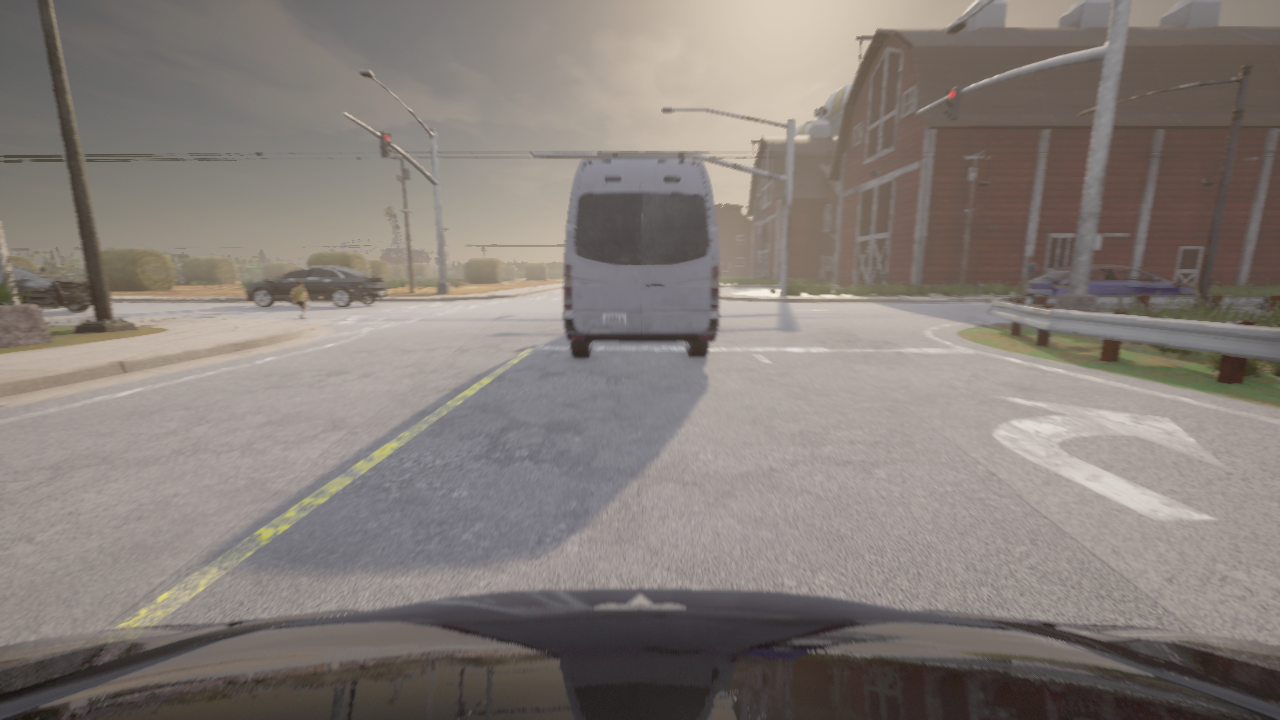cyclist: (0, 588, 1279, 719), (563, 158, 719, 357), (1023, 265, 1196, 312), (245, 265, 387, 307), (12, 266, 91, 311)
pedestrian: (1013, 256, 1036, 295), (291, 280, 308, 319), (416, 274, 421, 287)
